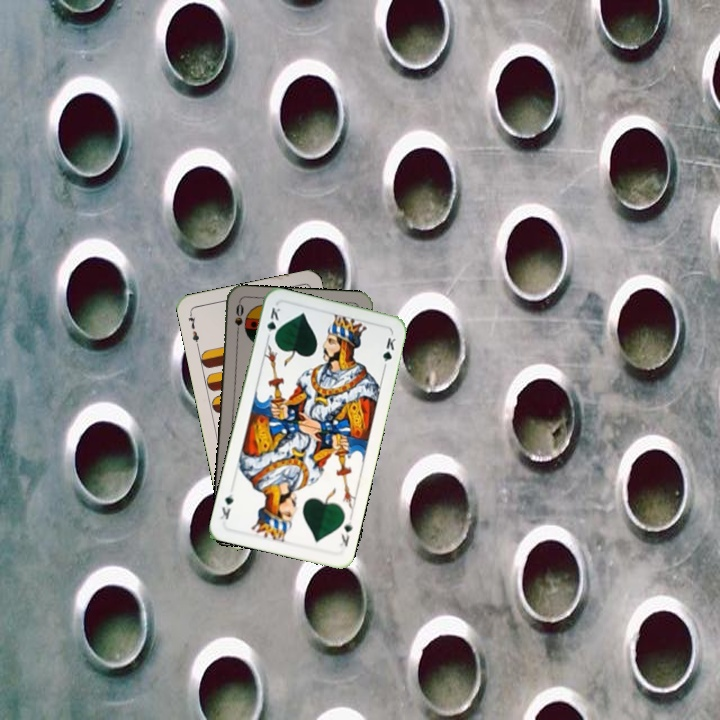E7: (184, 309, 202, 349)
GK: (263, 303, 283, 343), (335, 513, 355, 549)
SO: (231, 300, 246, 340)
